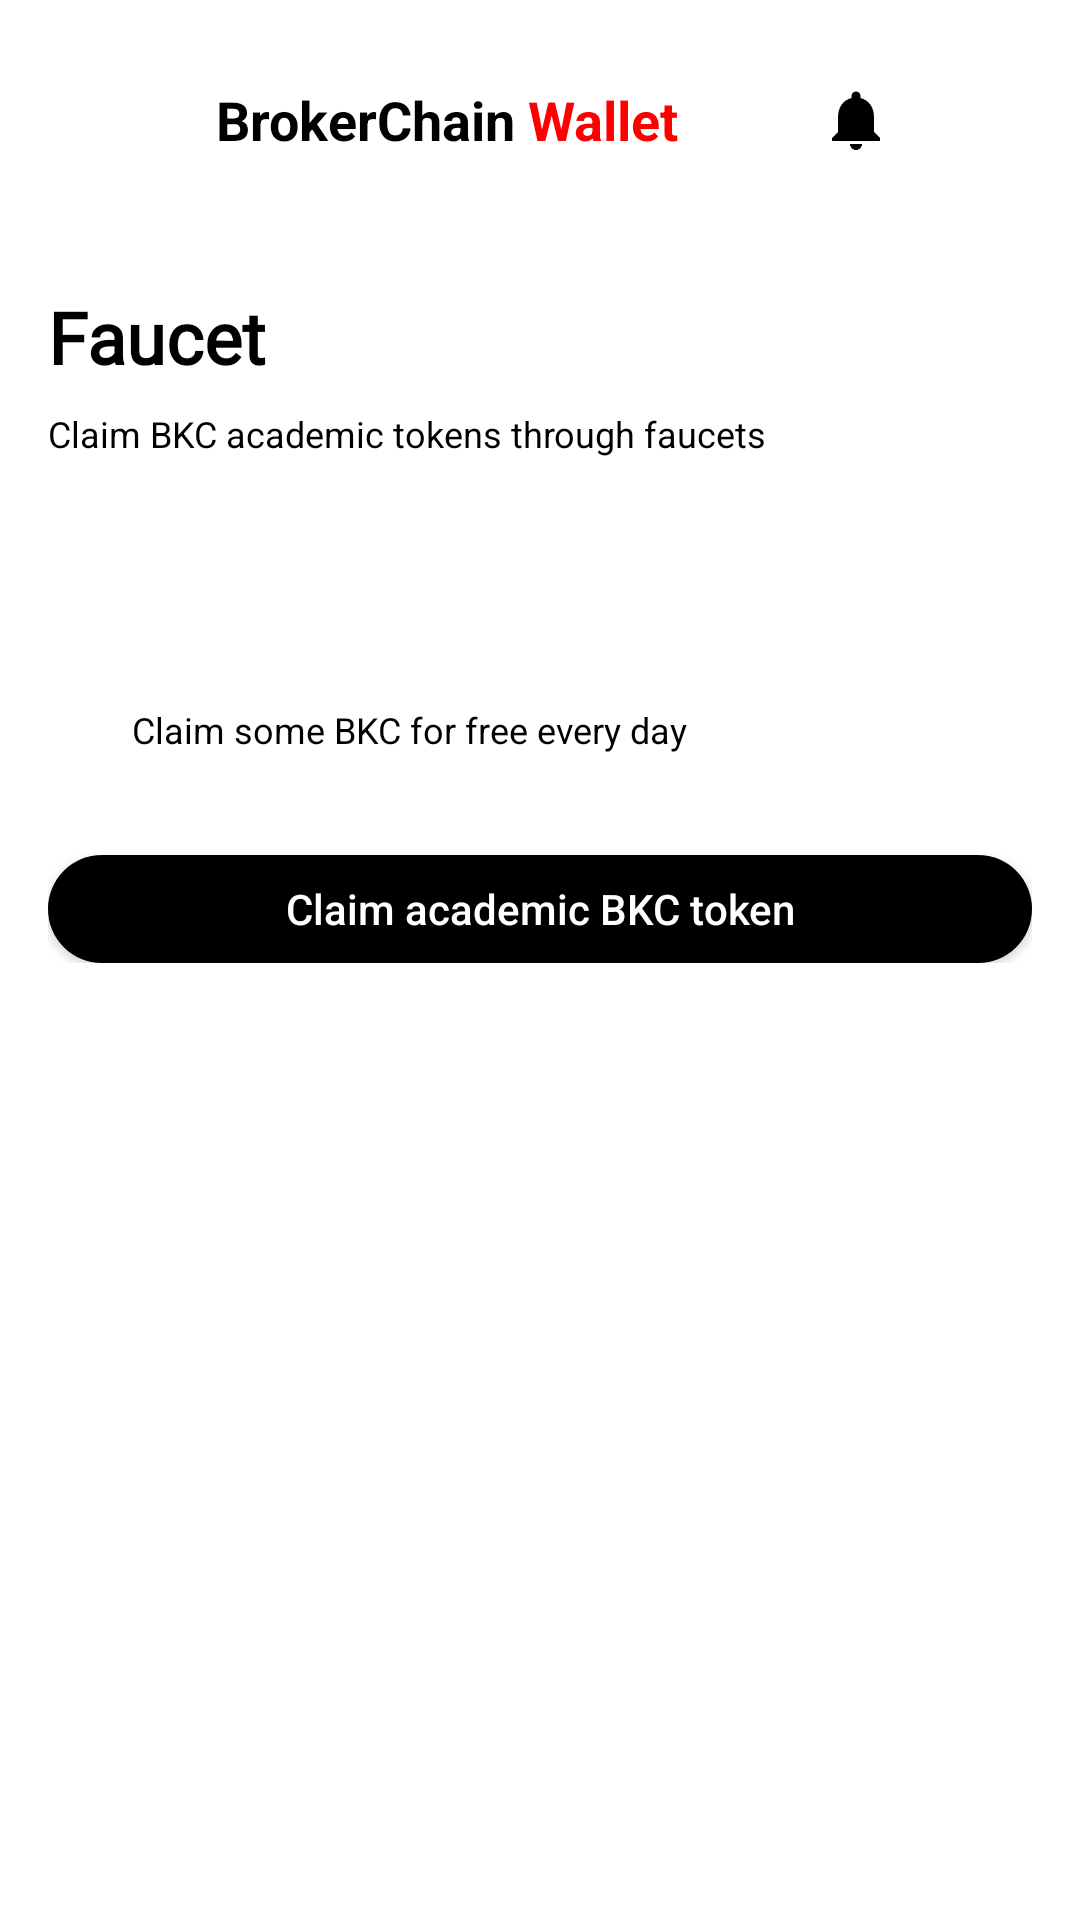

Screen size 1080w x 1920h. Icon name, then its box in pixels as [x1, y1, x2, y2]:
Notifications: [832, 91, 880, 150]
